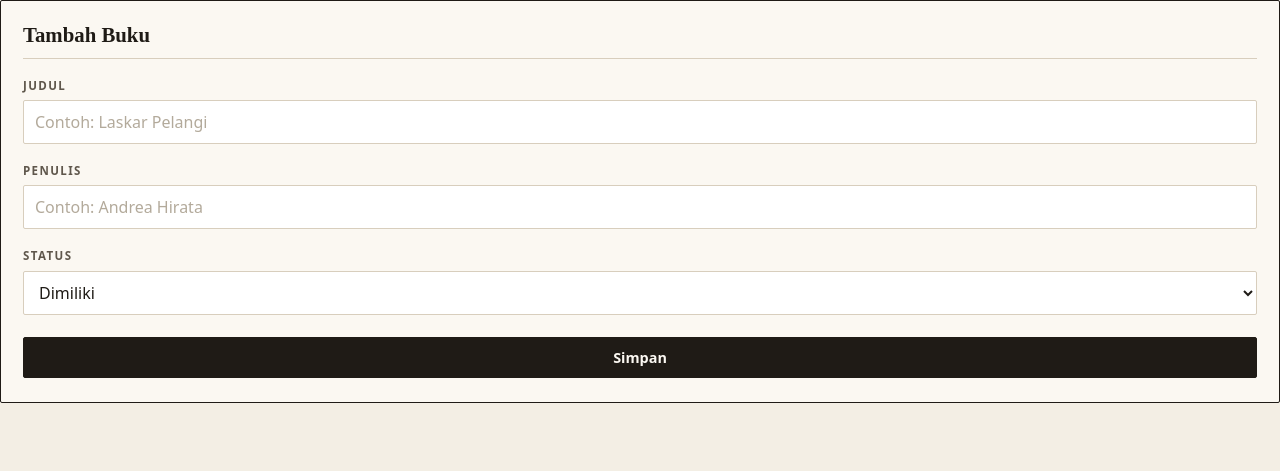
Test: BookForm › menghilangkan pesan error judul ketika pengguna mulai mengetik
Step 1. Click the button "Simpan" → (640, 358), box [23,337,1257,378]
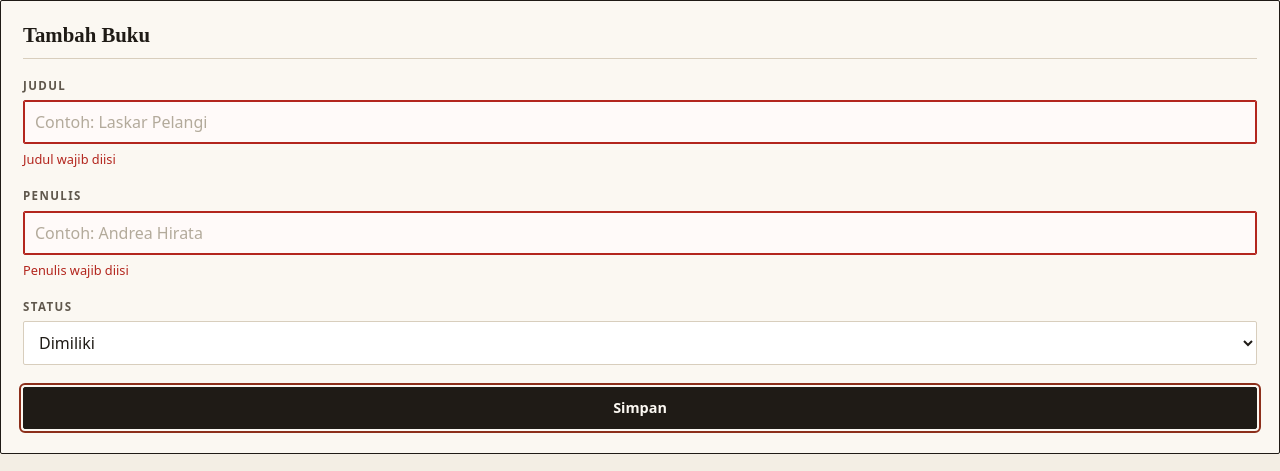
Result: the text "Judul wajib diisi" is shown at [23,150,116,168]
Step 2. Type "A" into the field labelled "Judul" → (640, 122), box [23,100,1257,144]
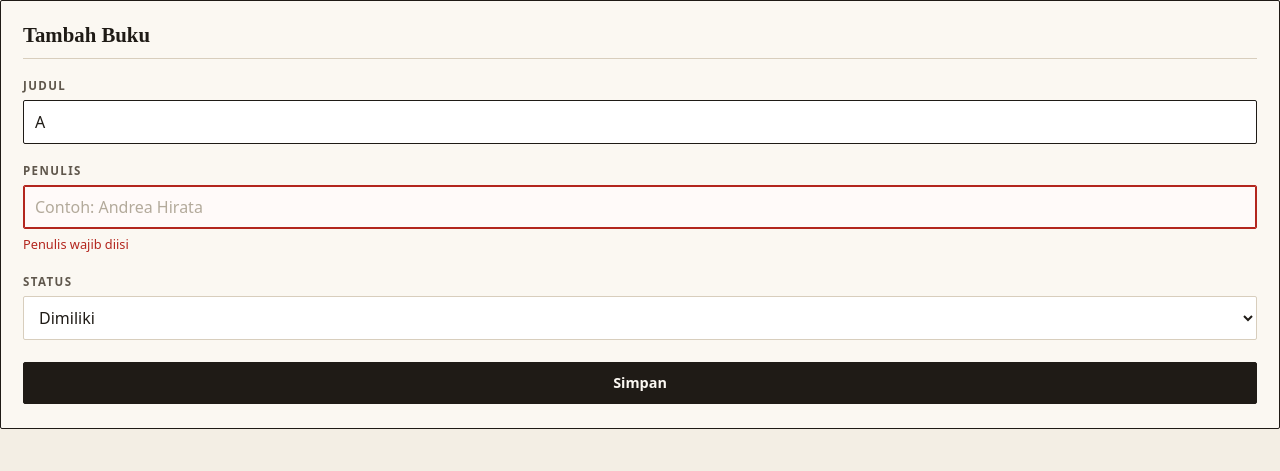
Result: the text "Penulis wajib diisi" is shown at [23,236,129,254]
Result: the text "Judul wajib diisi" is gone
